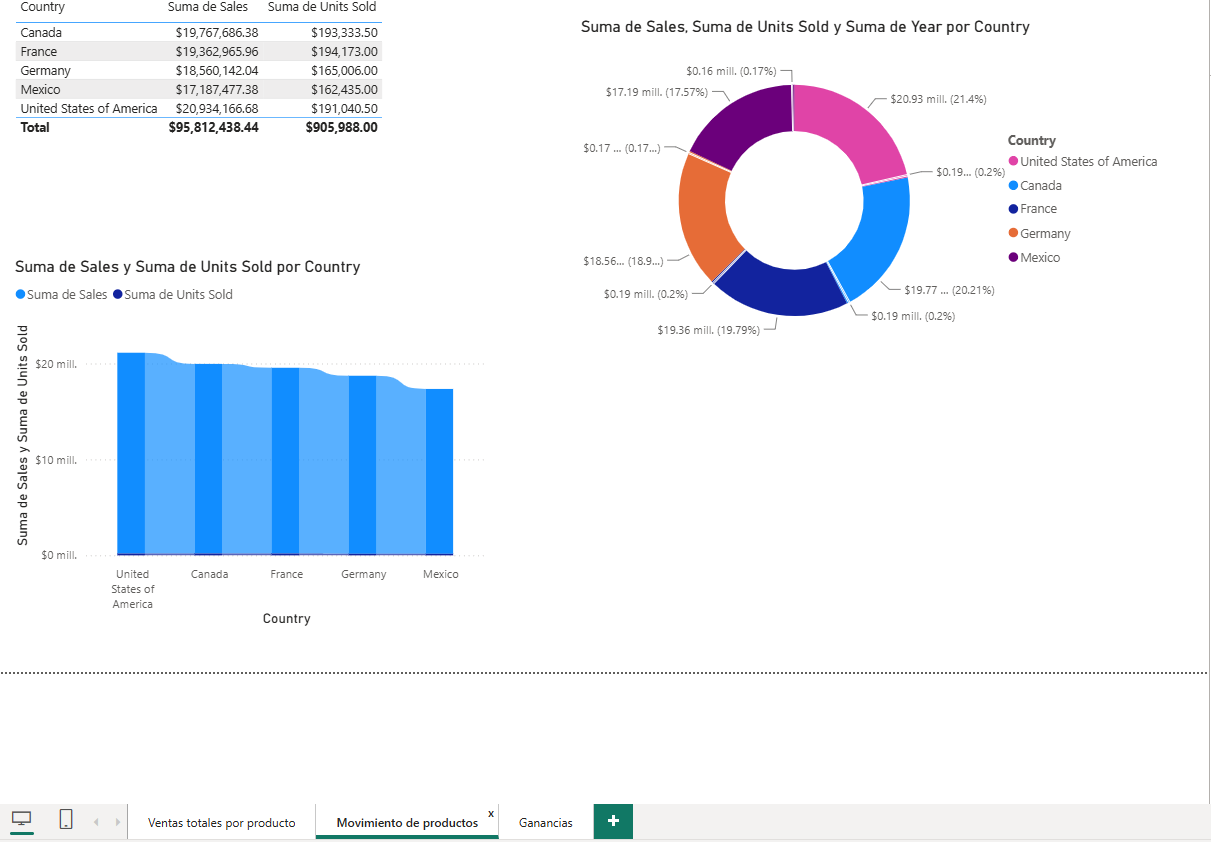

What the dashboard file says about the page in this screenshot:
{"tool":"powerbi","page":{"name":"Movimiento de productos","canvas":[1280,720],"ordinal":1},"visuals":[{"type":"tableEx","fields":{"Values":["Sheet1.Country","Sum(Sheet1.Sales)","Sum(Sheet1.Units Sold)"]},"box":[10.3,0,510.2,280.2],"z":0},{"type":"donutChart","fields":{"Category":["Sheet1.Country"],"Y":["Sum(Sheet1.Sales)","Sum(Sheet1.Units Sold)","Sum(Sheet1.Year)"]},"box":[609.7,26.7,630.2,369.5],"z":1000},{"type":"ribbonChart","fields":{"Category":["Sheet1.Country"],"Y":["Sum(Sheet1.Sales)","Sum(Sheet1.Units Sold)"]},"box":[10.3,280.2,510.2,396.2],"z":2000}]}

Visuals, with their boxes on the page's 1280x720 design canvas (x1, y1, x2, y2). These are canvas units, not pixel positions in the 1211x842 screenshot, which may show the page scaled, cropped or inside an application window:
tableEx - Sheet1.Country x Sum(Sheet1.Sales): <bbox>10, 0, 520, 280</bbox>
donutChart - Sheet1.Country x Sum(Sheet1.Sales): <bbox>610, 27, 1240, 396</bbox>
ribbonChart - Sheet1.Country x Sum(Sheet1.Sales): <bbox>10, 280, 520, 676</bbox>
